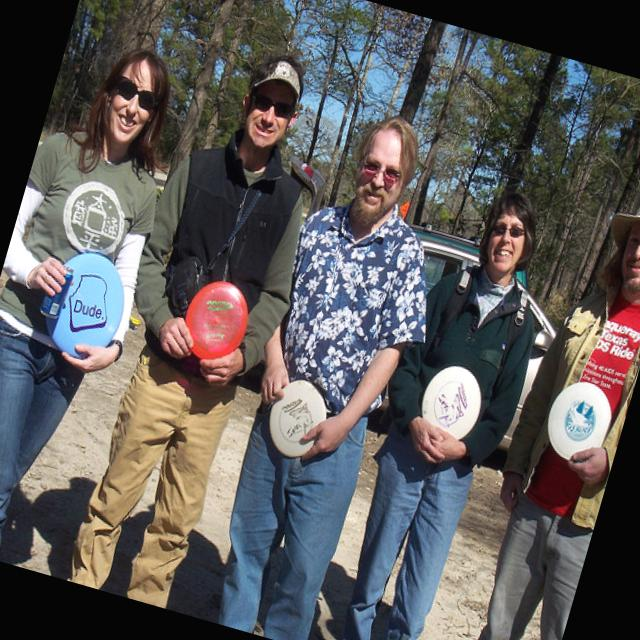Vehicle: (354, 216, 576, 458)
